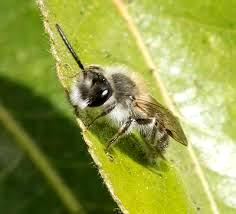Helopeltis-insect: (70, 63, 189, 165)
